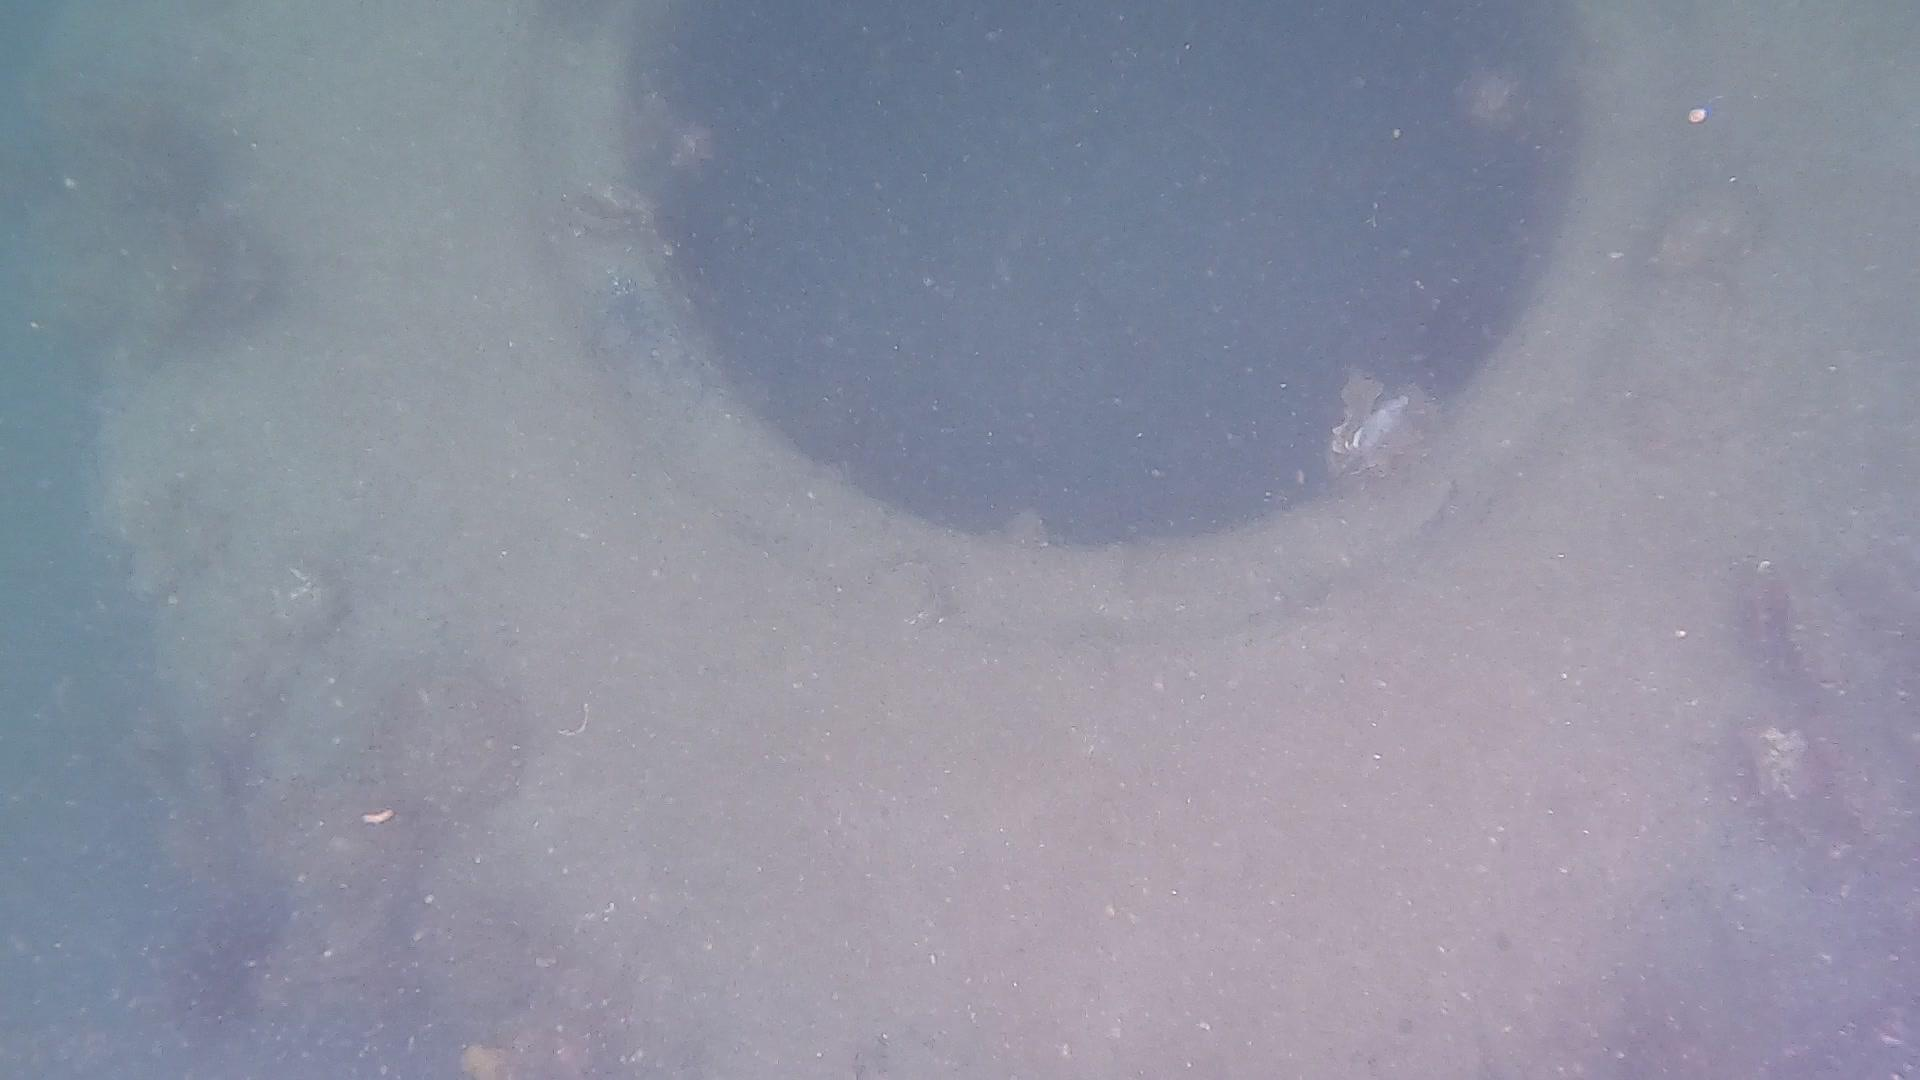tire: (91, 0, 1920, 1080)
